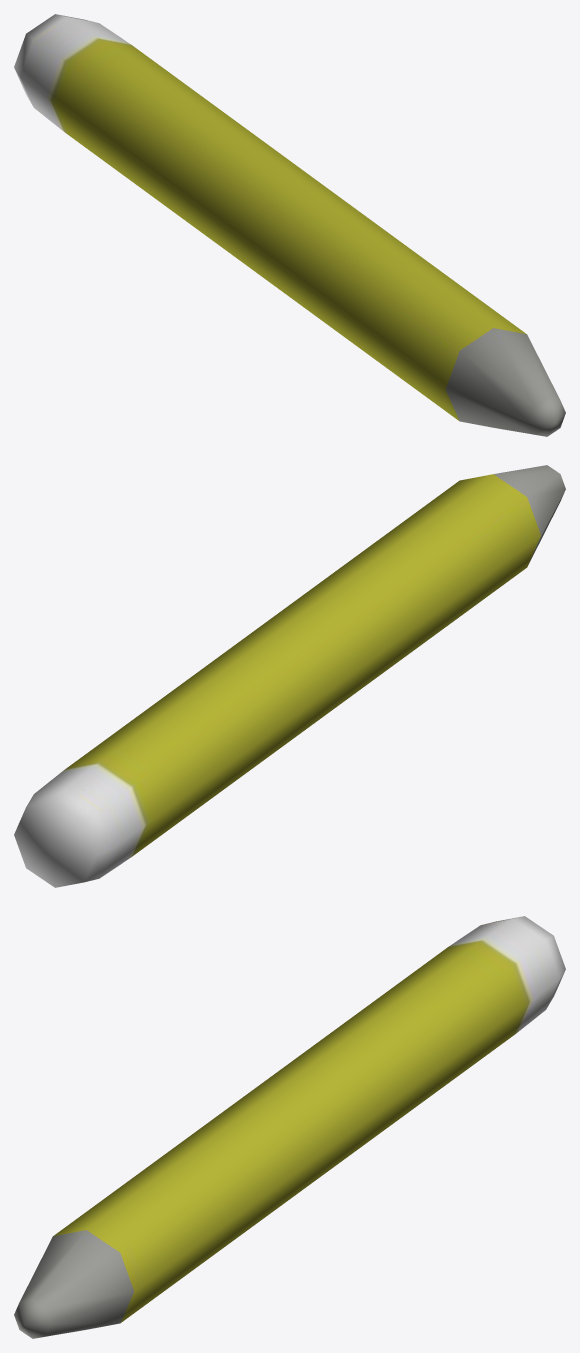
The model's file is pencil.fbx.
3 views of the same model, one above another, from view 1: azimuth 30°, elevation 25°; view 2: azimuth 150°, elevation 25°; view 3: azimuth 330°, elevation 25° (orthographic).
Visible parts, largest first — view 1: pencil; view 2: pencil; view 3: pencil.
Part boxes in pixels (left/top/right/bottom): pencil: left=14, top=14, right=565, bottom=436; pencil: left=14, top=465, right=565, bottom=887; pencil: left=14, top=916, right=565, bottom=1338.
Bounding box in the file's own units: 1.91 × 1.91 × 17.41.
Materials: 1 (1 with a texture image).
